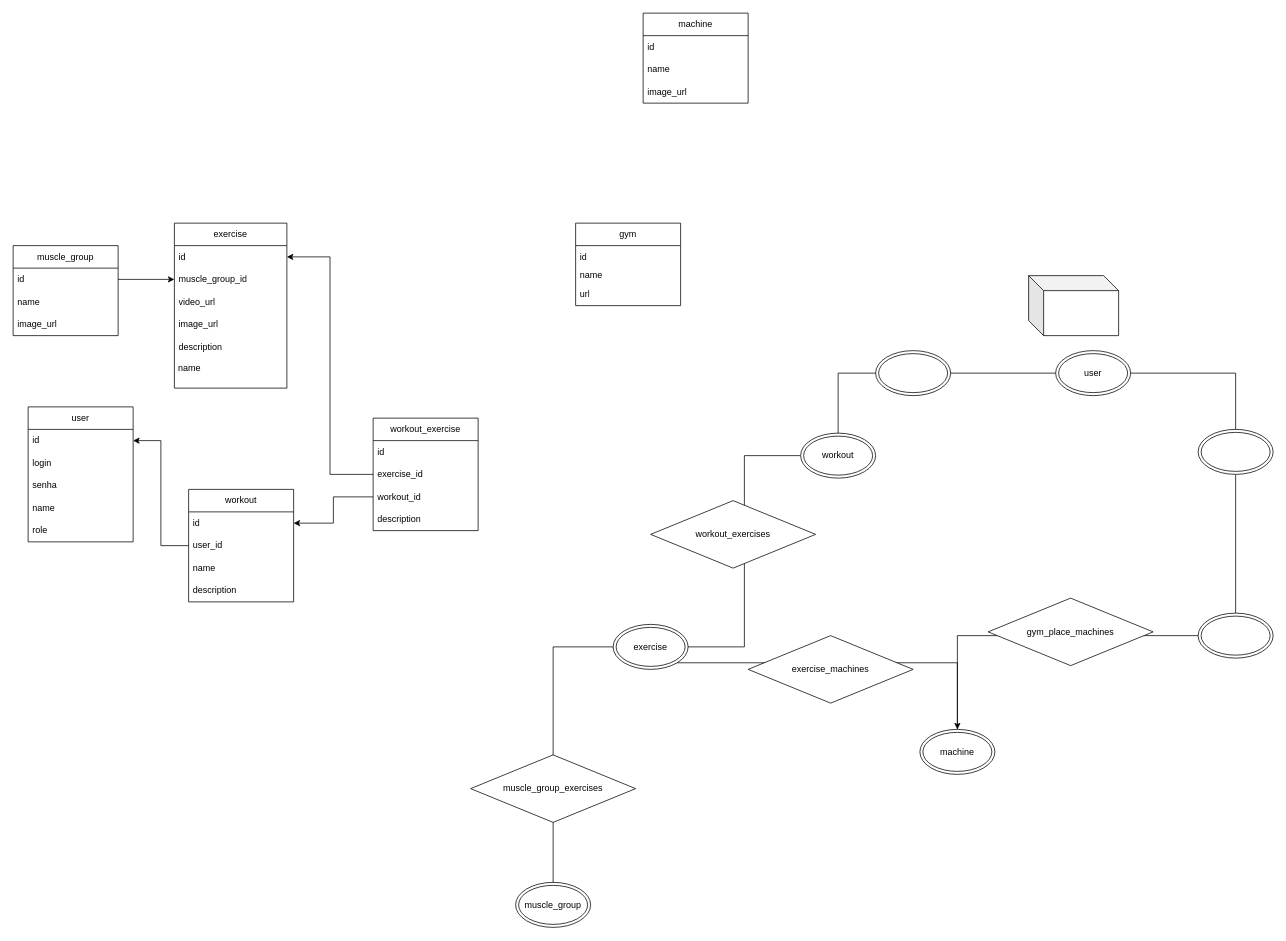
Image size: 1286x941. Some labels were removed from this diagram. The shapes that lost their labels are listed below. From the top down, each one's centre as x and y in pixels, then its label:
point 1073,305: user professional admin
point 913,373: user_workouts
point 1235,451: gym_place_users
point 1235,635: gym_place
